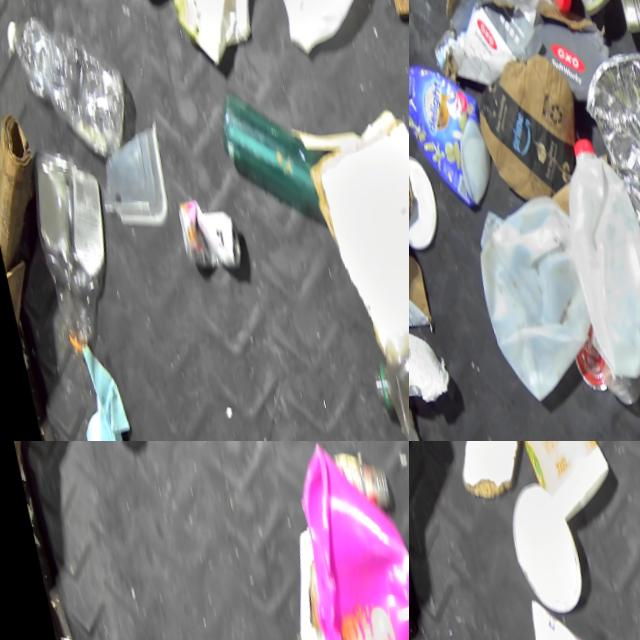can: (172, 187, 242, 272)
milk_jug: (463, 179, 606, 409), (546, 121, 640, 381), (260, 0, 385, 51)
non_white_jug: (278, 441, 409, 640), (409, 26, 501, 219)
plastic_bottle: (21, 139, 130, 357), (1, 0, 138, 171), (357, 285, 409, 441)
